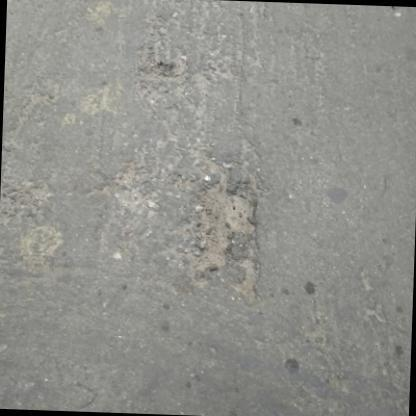pothole: (179, 173, 266, 301)
